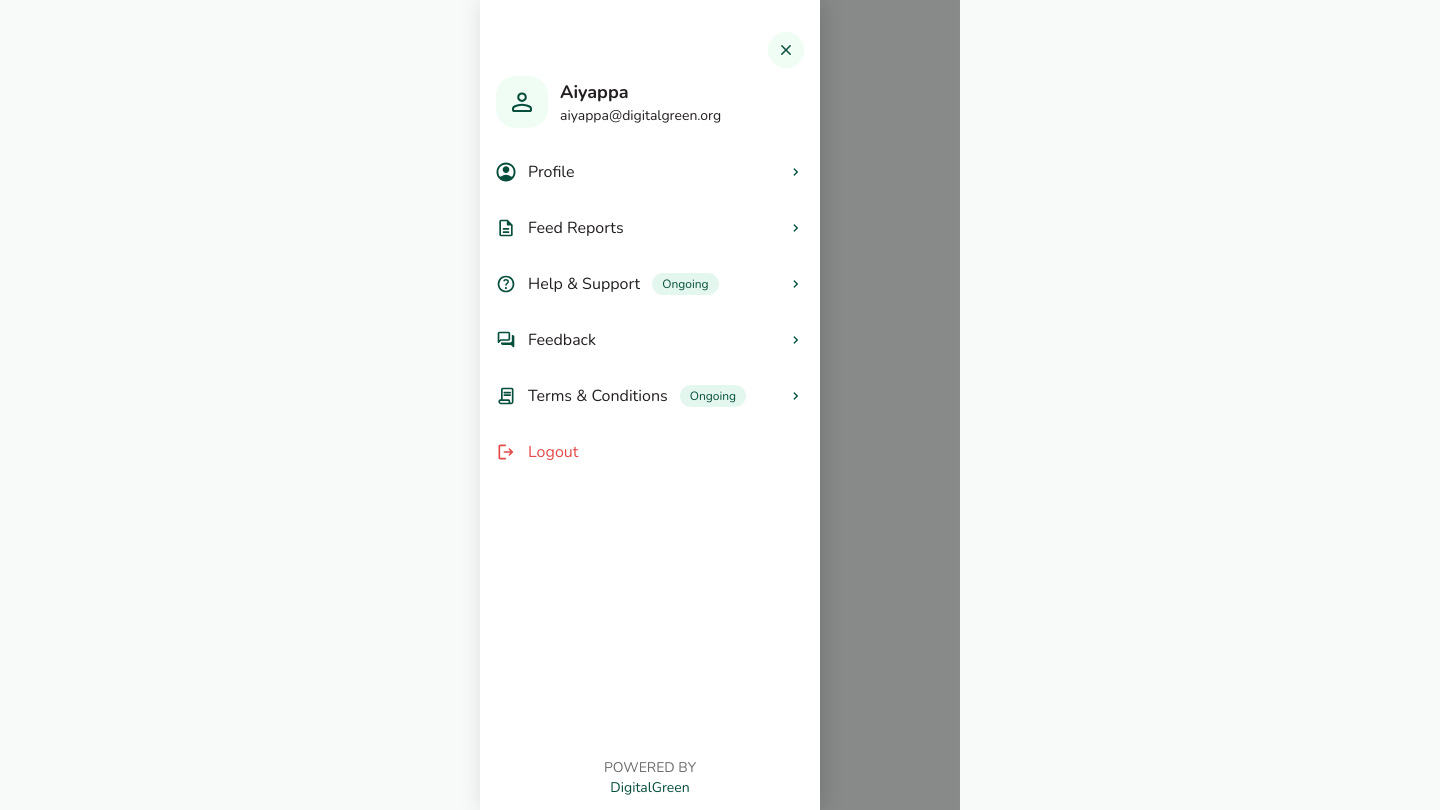
Test: NavDrawer › clicking Logout opens a confirmation dialog instead of logging out immediately
Click the button "Logout" at point(553, 452), box [480,424,820,480]
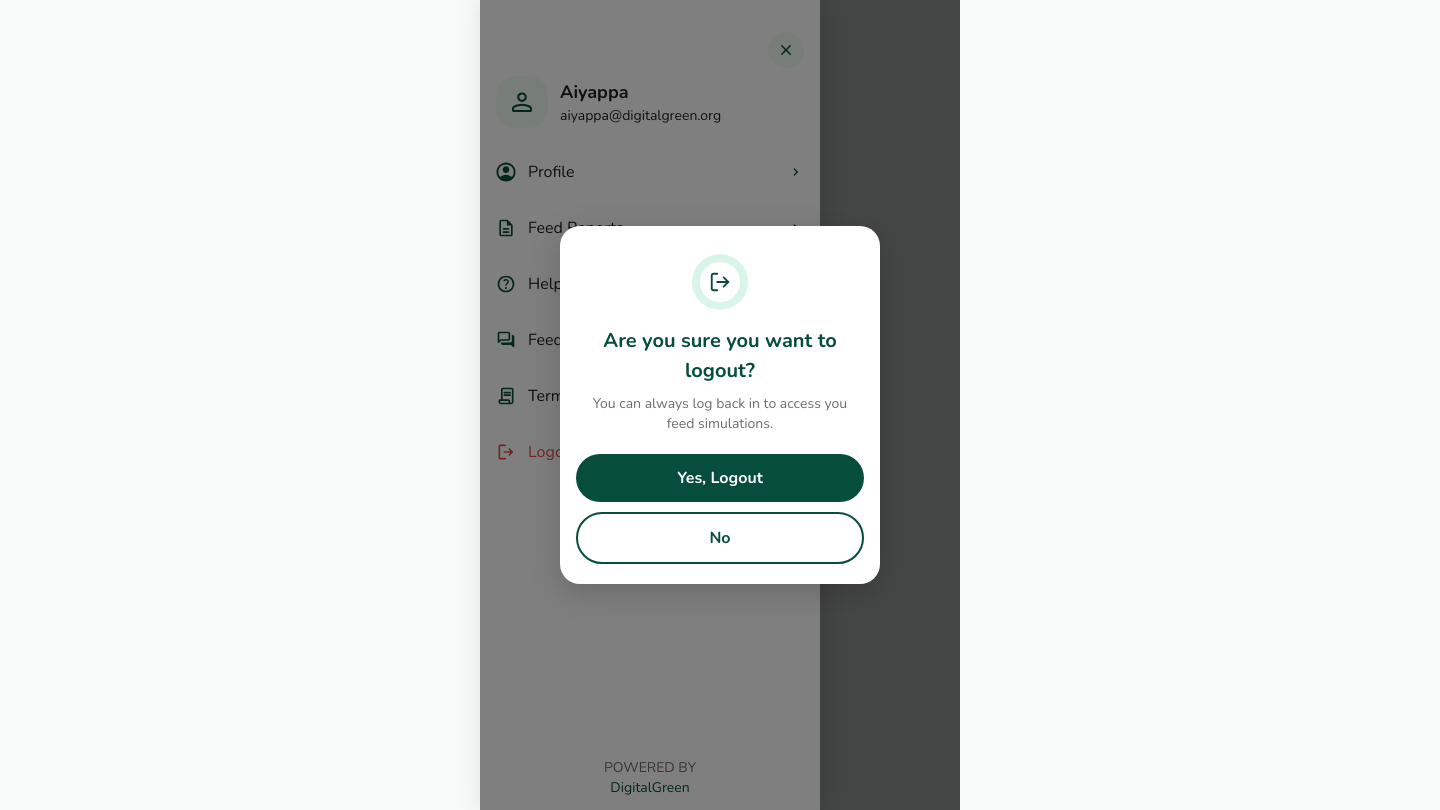
expect the heading "Are you sure you want to logout?" is shown: met, box [592,326,848,386]
